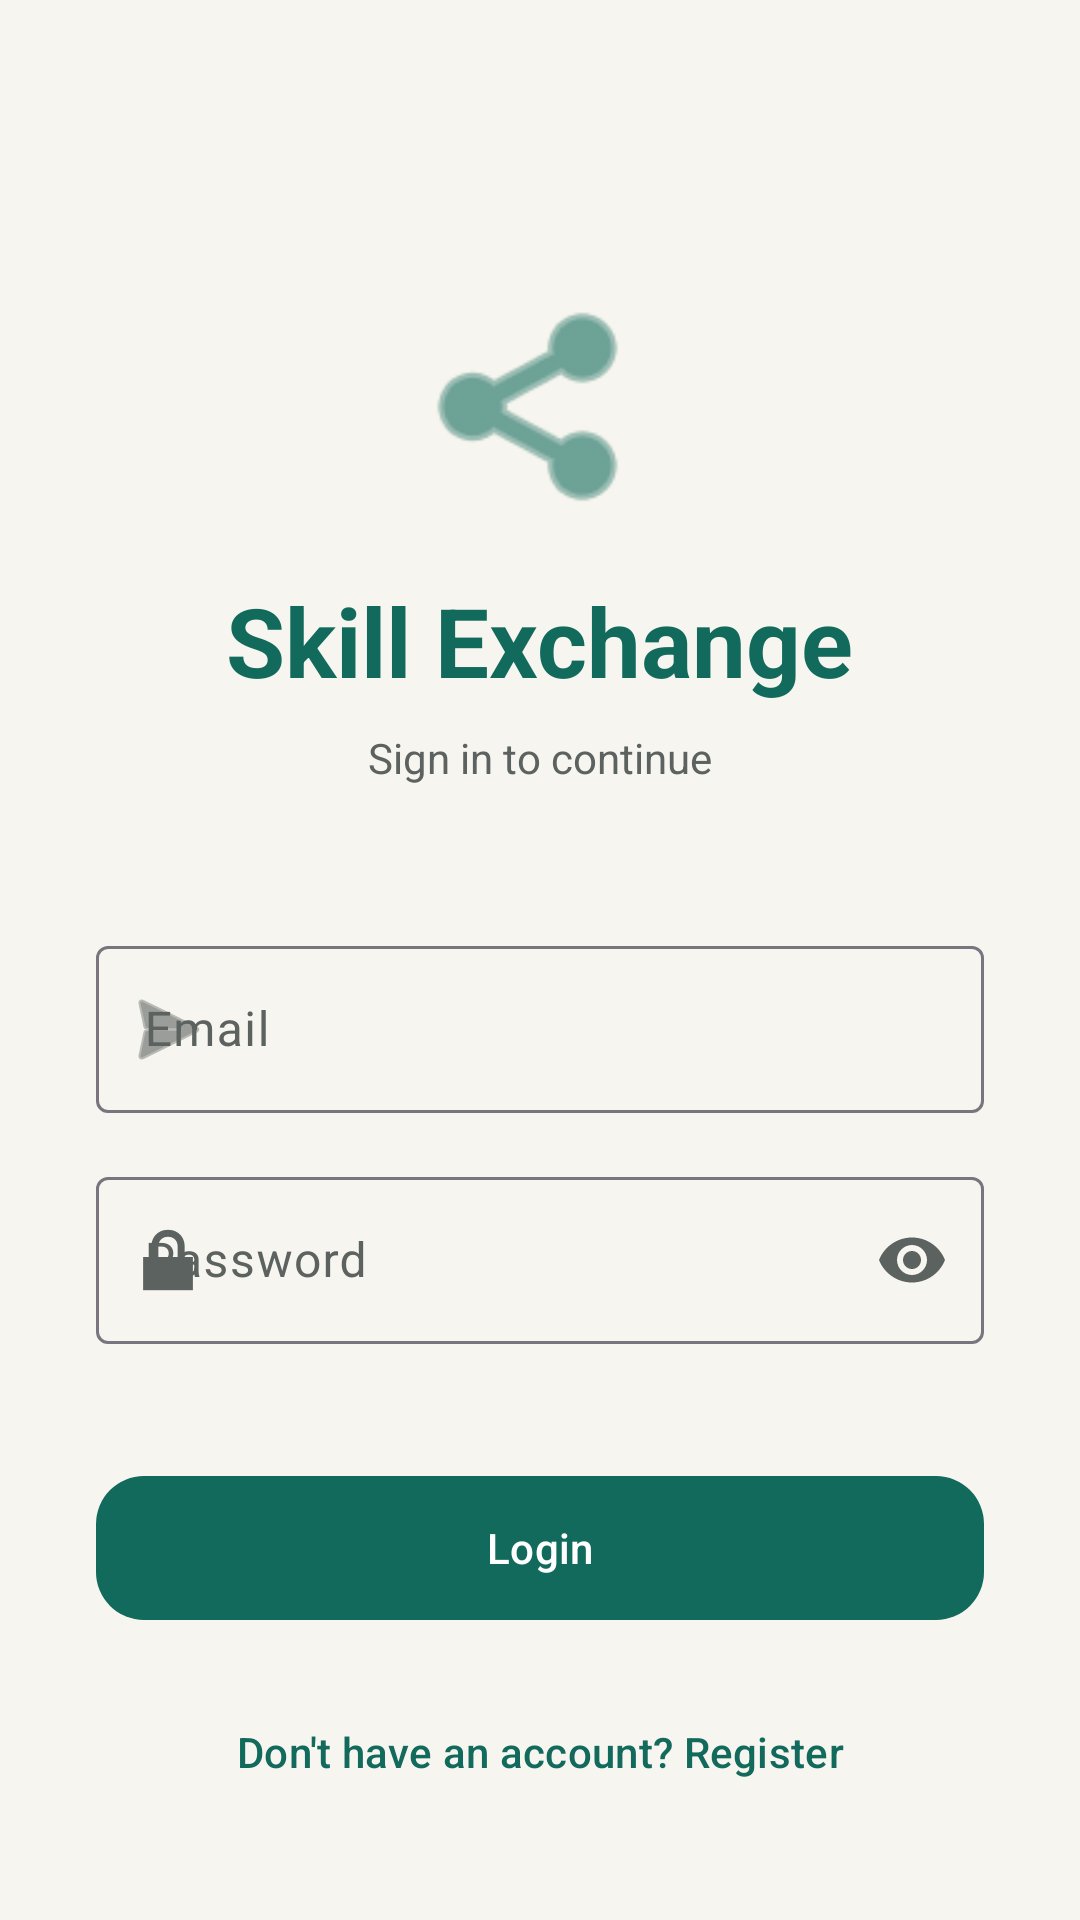

Where icons sit on this 1080px x 1920px app screen, as (x1, y1, x2, y2):
share: (437, 313, 618, 501)
